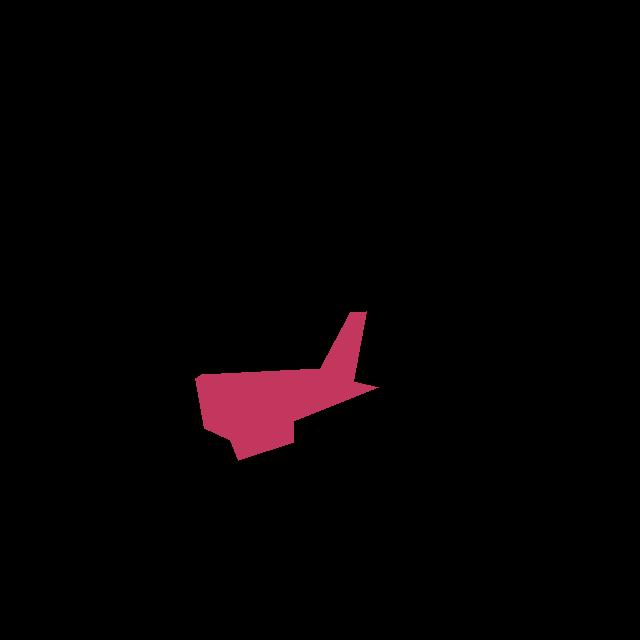Airplane: (195, 311, 379, 460)
